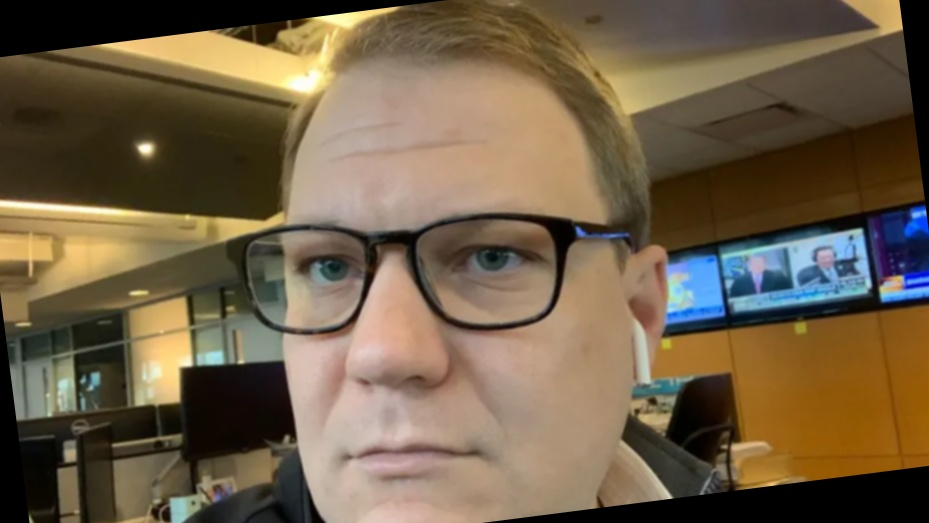earphone: (615, 242, 683, 390)
